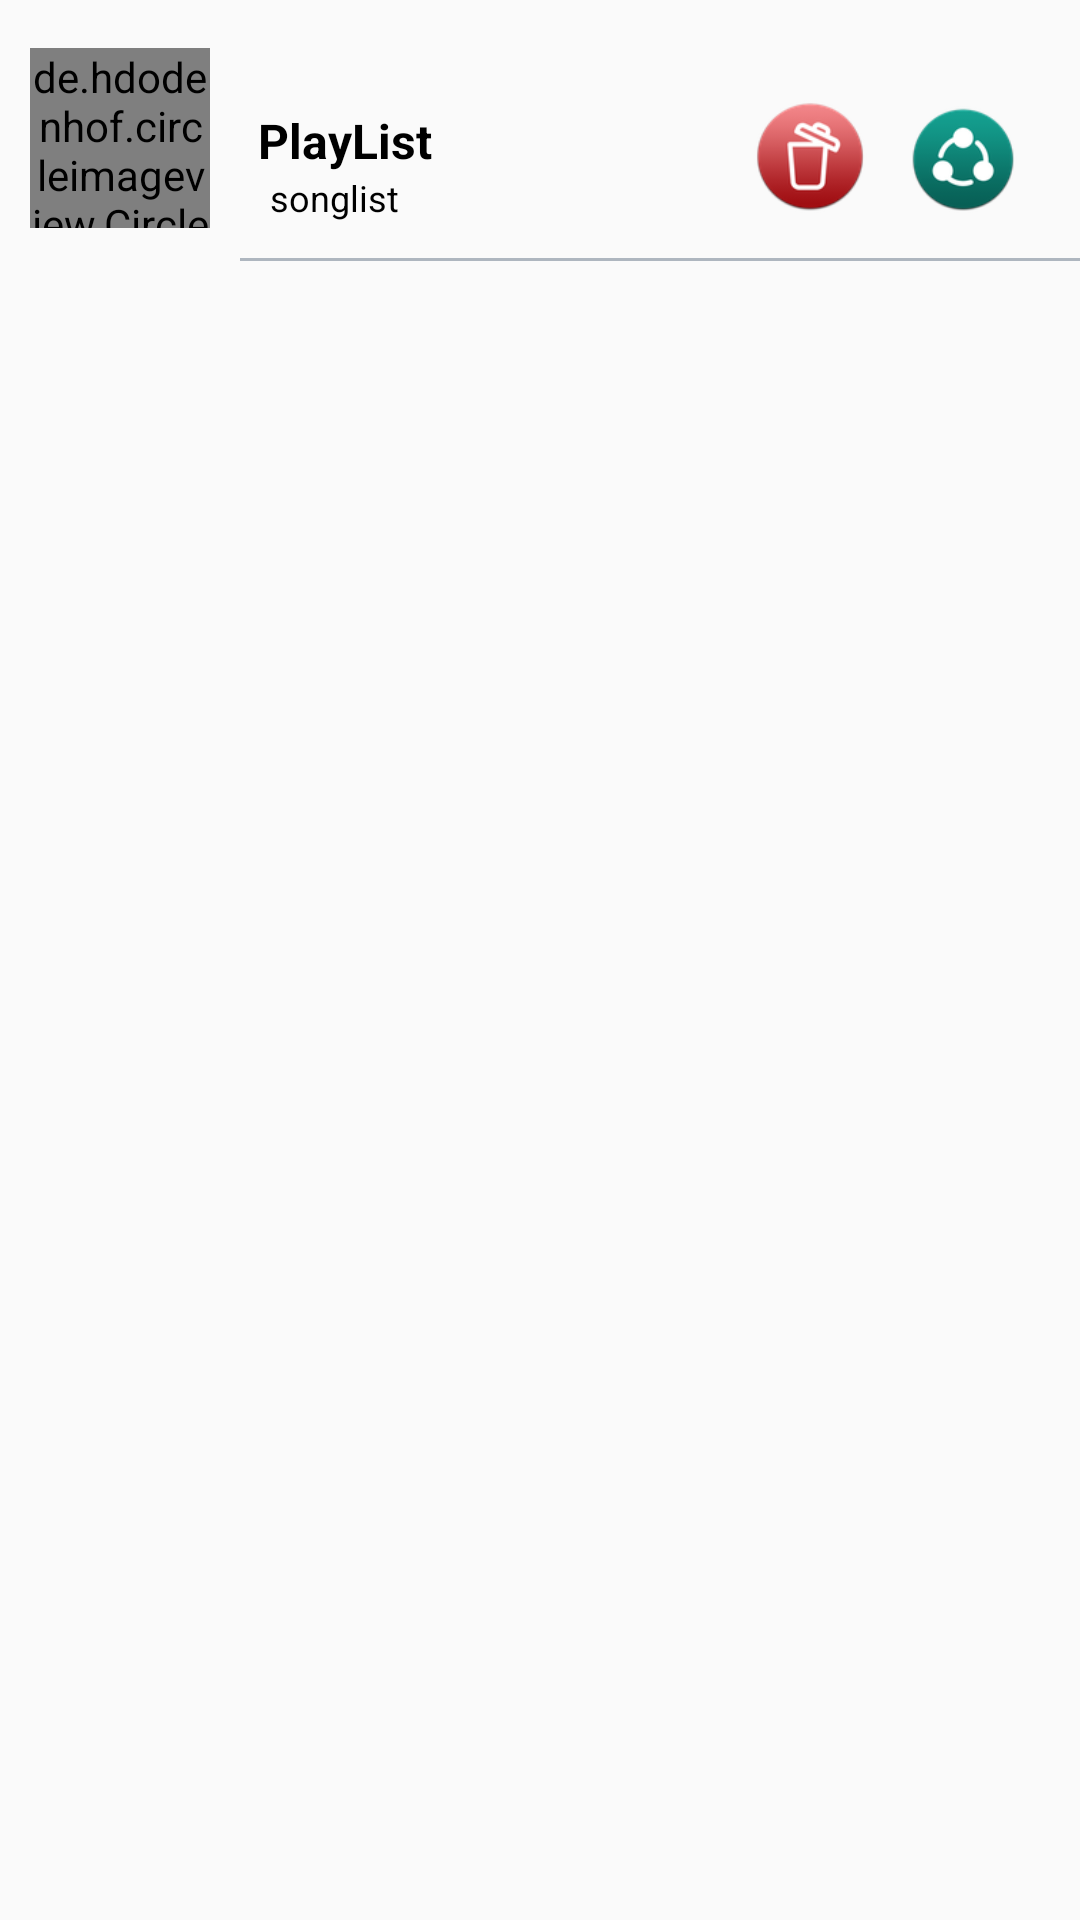

Where to tap for icons on this 1080w x 1920h app screen, as (x,y):
deletetab: (810,156)
share: (963,159)
